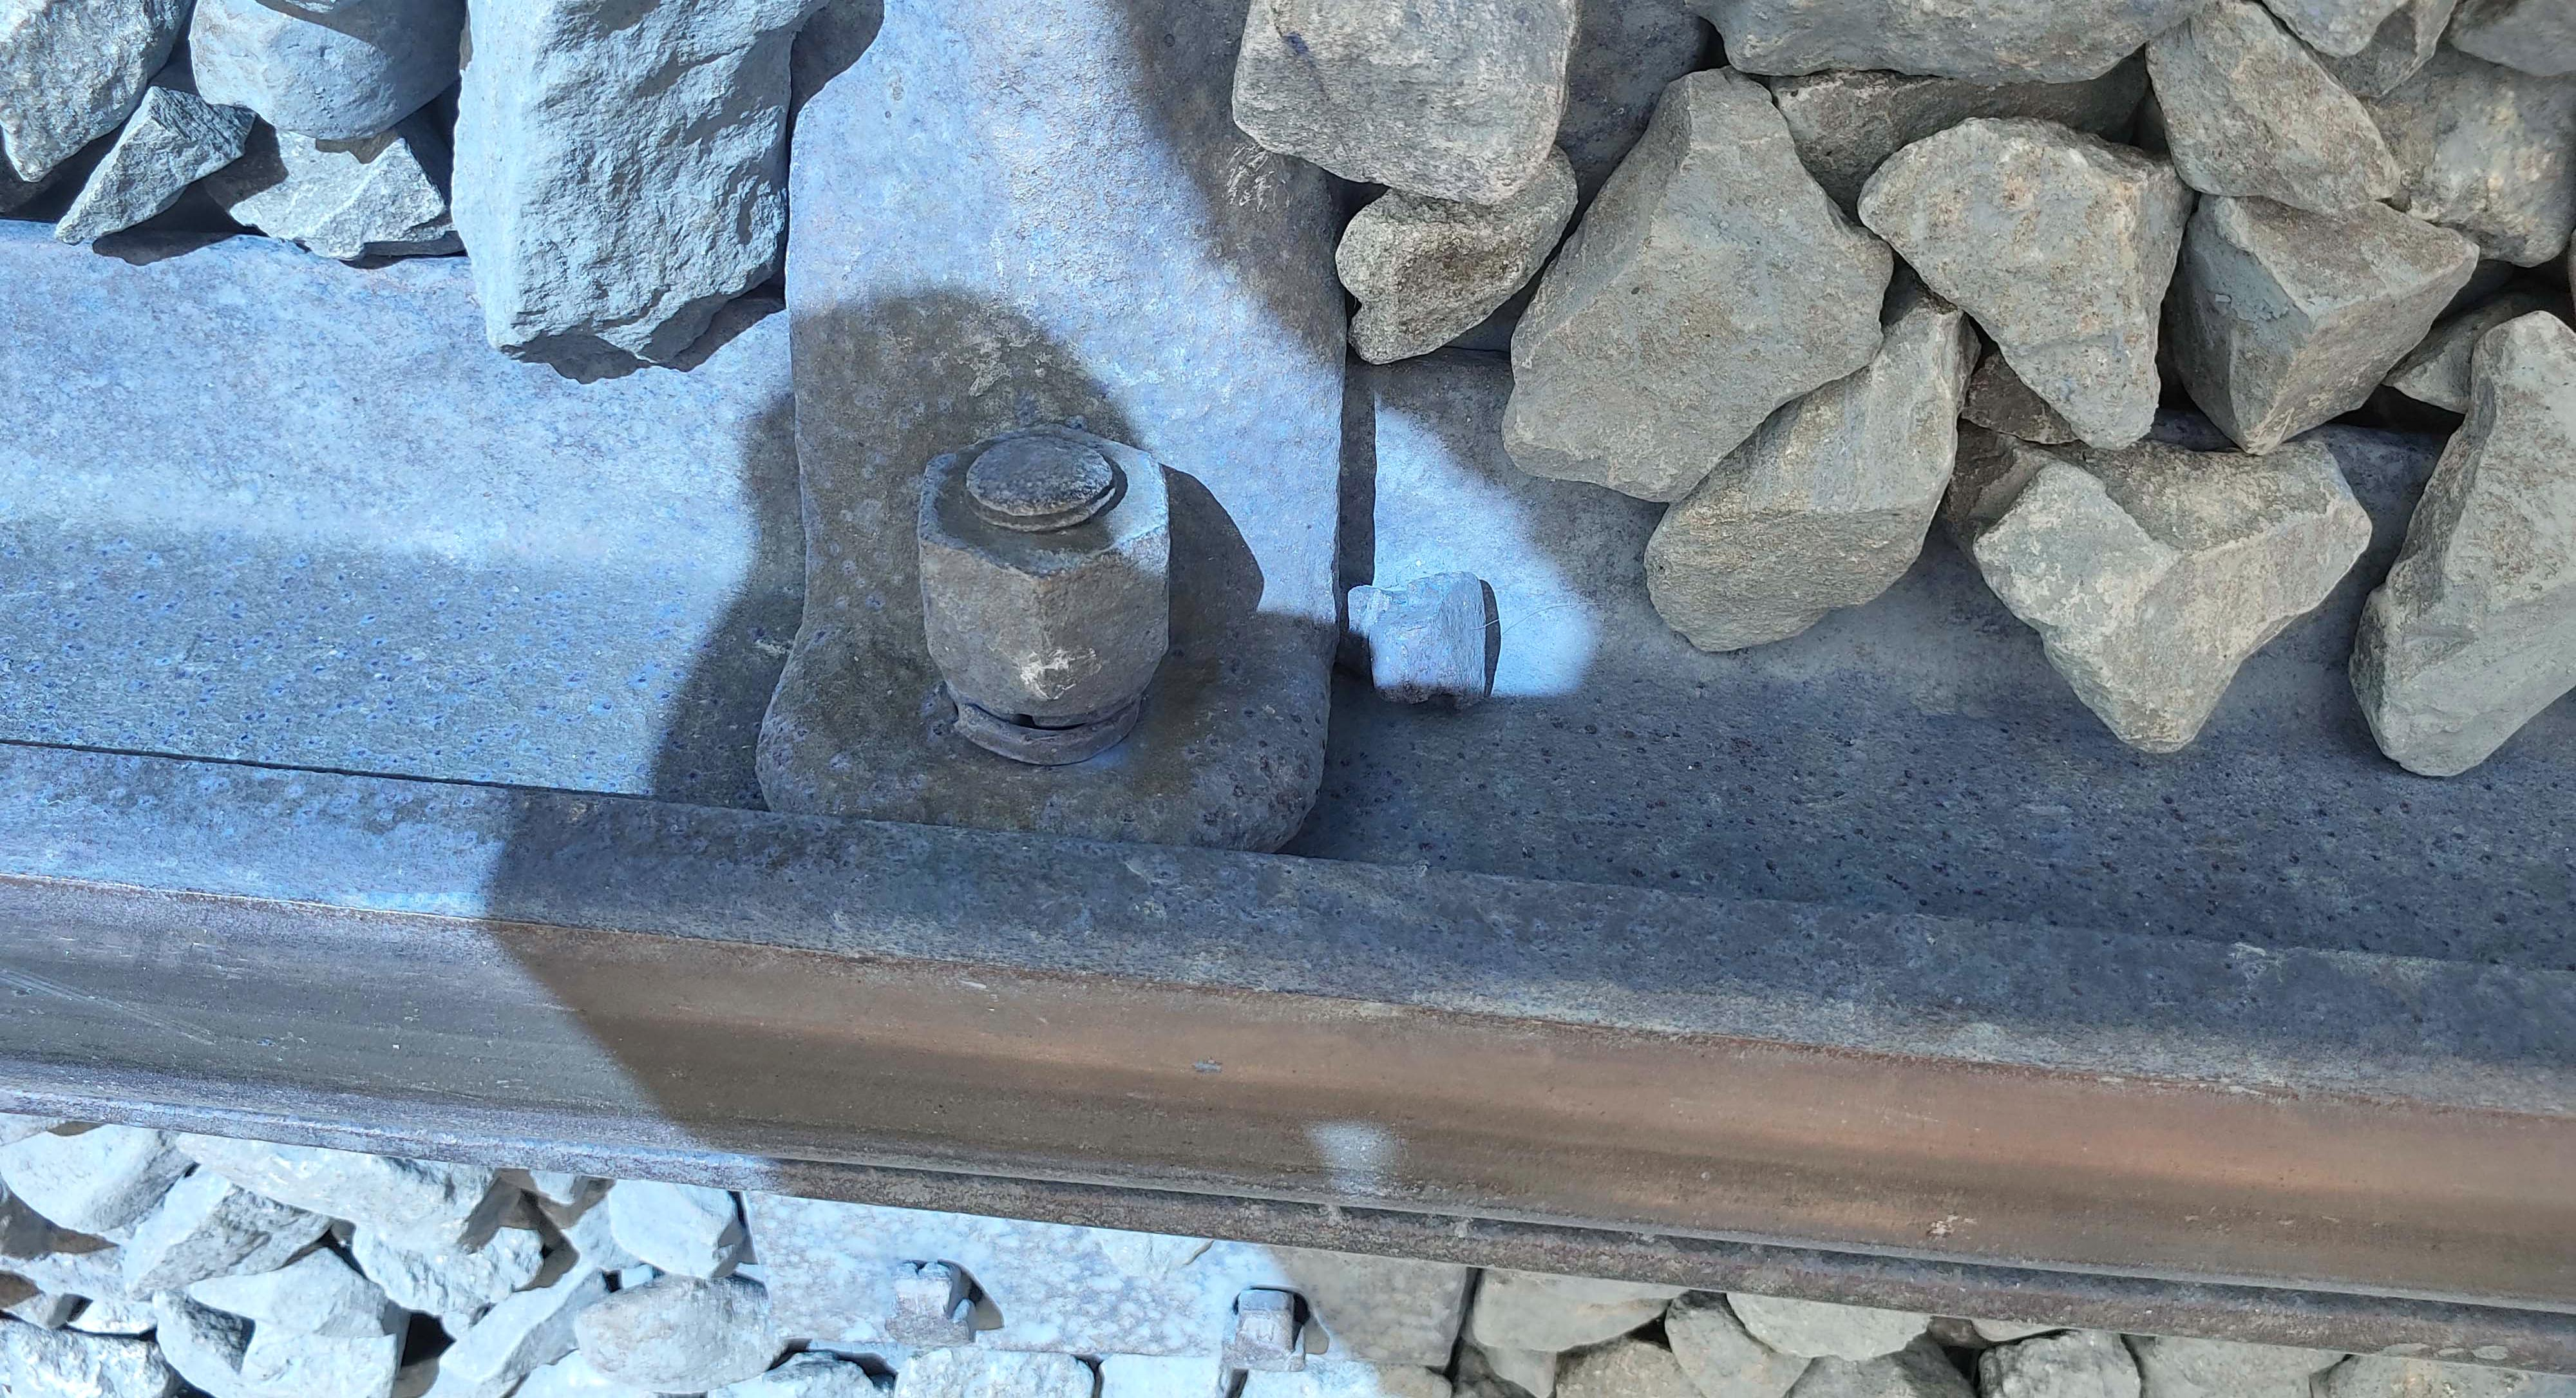error1: (1320, 441, 1528, 811)
